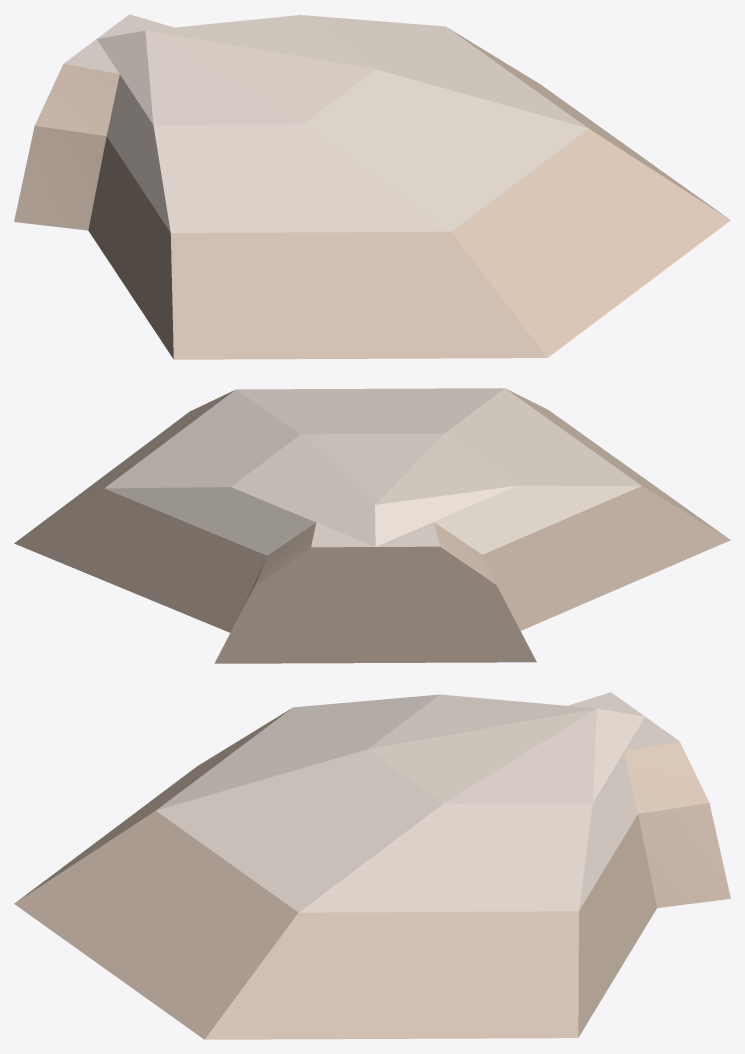
File: Beach_Prop_Shell_1.glb
3 views of the same model, one above another, from view 1: azimuth 30°, elevation 25°; view 2: azimuth 150°, elevation 25°; view 3: azimuth 270°, elevation 25° (orthographic). The views are drawn at different scales.
Visible parts, largest first — view 1: Beach_Prop_Shell_1; view 2: Beach_Prop_Shell_1; view 3: Beach_Prop_Shell_1.
Part boxes in pixels (x1,y1,x2,y2): Beach_Prop_Shell_1: (14, 14, 730, 359); Beach_Prop_Shell_1: (14, 388, 730, 663); Beach_Prop_Shell_1: (14, 692, 730, 1039).
Bounding box in the file's own units: 0.1082 × 0.026 × 0.1198.
